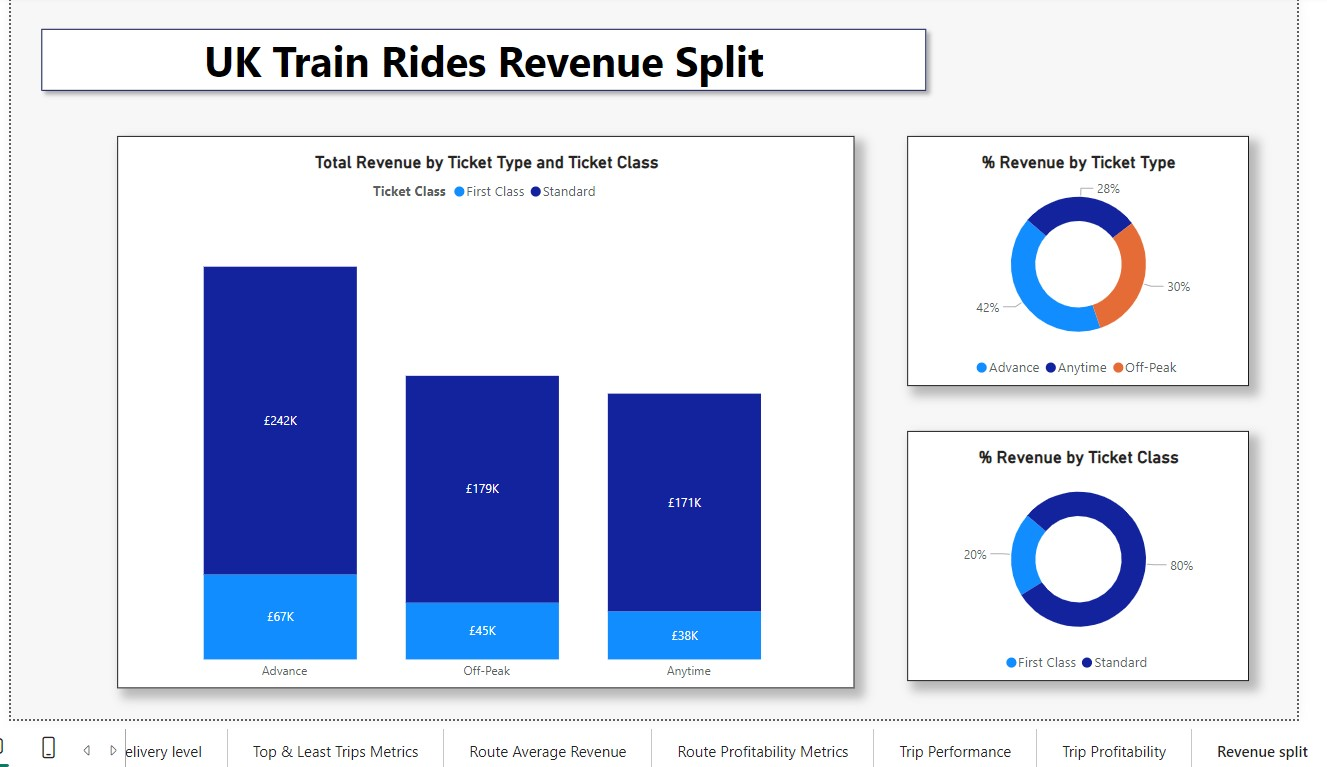

What the dashboard file says about the page in this screenshot:
{"tool":"powerbi","page":{"name":"Revenue split","canvas":[1280,720],"ordinal":8},"visuals":[{"type":"columnChart","title":"Total Revenue by Ticket Type and Ticket Class","fields":{"Category":["railway_clean_data.Ticket Type"],"Y":["Sum(railway_clean_data.Price)"],"Series":["railway_clean_data.Ticket Class"]},"box":[105.7,139.3,733.9,549.8],"z":0},{"type":"shape","box":[21.4,23.3,898.7,79.8],"z":1000},{"type":"donutChart","title":"% Revenue by Ticket Type","fields":{"Series":["railway_clean_data.Ticket Type"],"Y":["Sum(railway_clean_data.Price)"]},"box":[891.9,139.3,339.6,248.8],"z":4000},{"type":"donutChart","title":"% Revenue by Ticket Class","fields":{"Series":["railway_clean_data.Ticket Class"],"Y":["Sum(railway_clean_data.Price)"]},"box":[891.9,432.9,339.6,248.8],"z":5000}]}

Visuals, with their boxes on the page's 1280x720 design canvas (x1, y1, x2, y2). These are canvas units, not pixel positions in the 1327x767 screenshot, which may show the page scaled, cropped or inside an application window:
"Total Revenue by Ticket Type and Ticket Class" columnChart: 106:139:840:689
shape: 21:23:920:103
"% Revenue by Ticket Type" donutChart: 892:139:1232:388
"% Revenue by Ticket Class" donutChart: 892:433:1232:682
